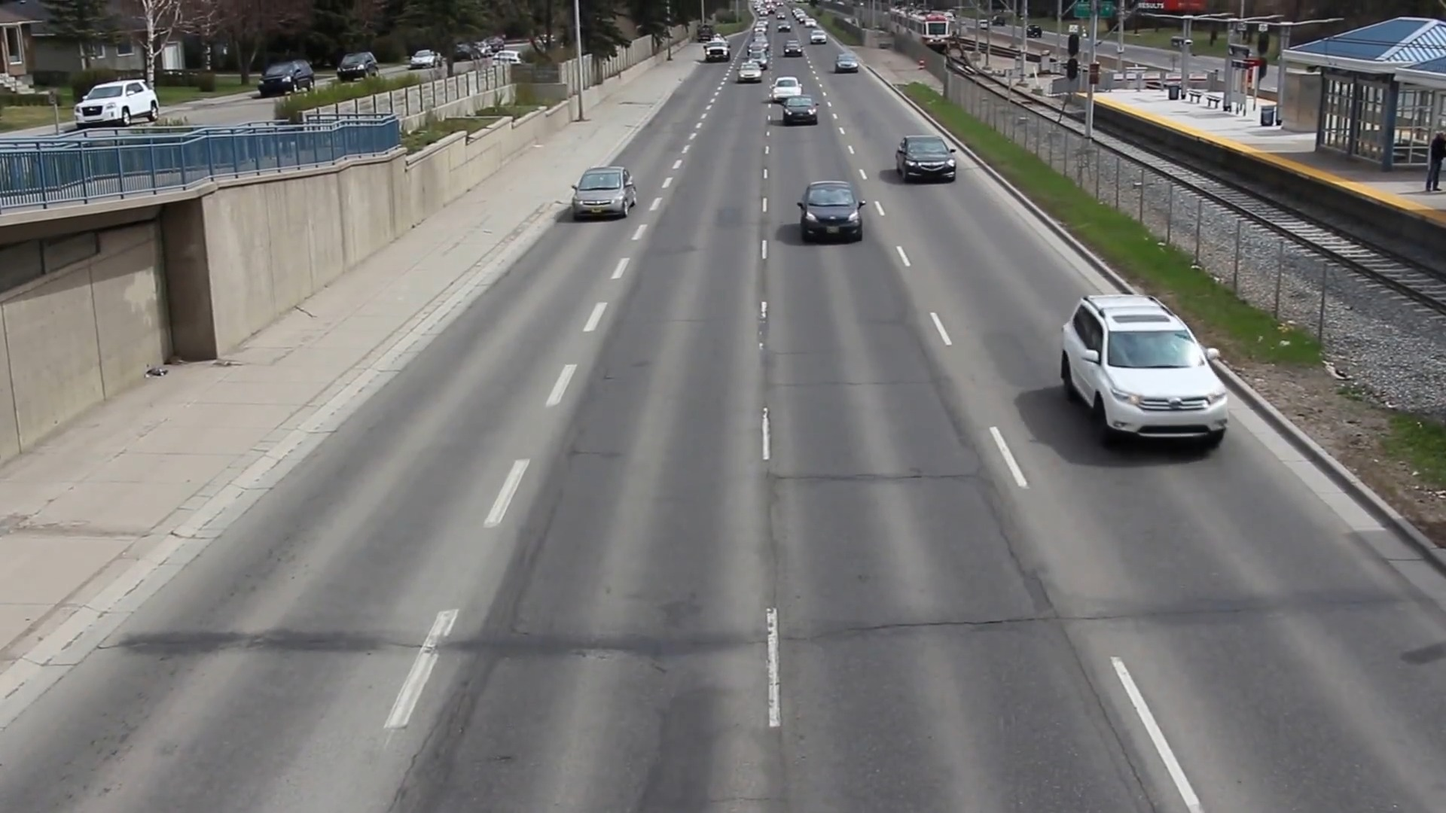car: (1053, 288, 1242, 458), (569, 162, 634, 224), (795, 187, 870, 238), (895, 130, 959, 185)
